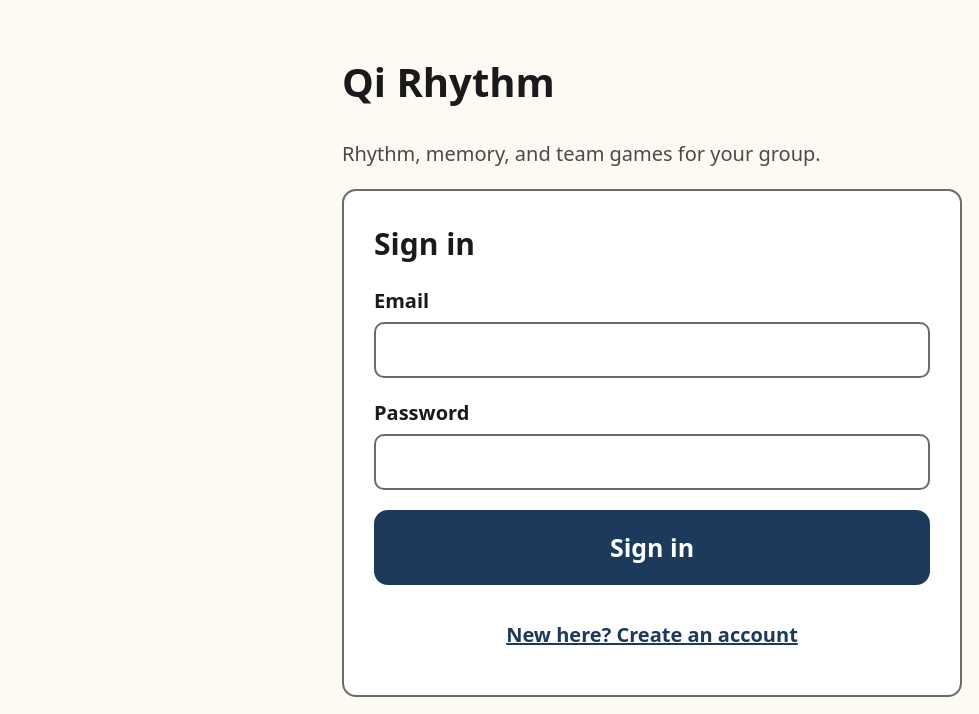
signs in and goes to the dashboard
Step 1. Type "c@example.com" into the field labelled "Email" → (652,350), box left=374, top=322, right=930, bottom=378
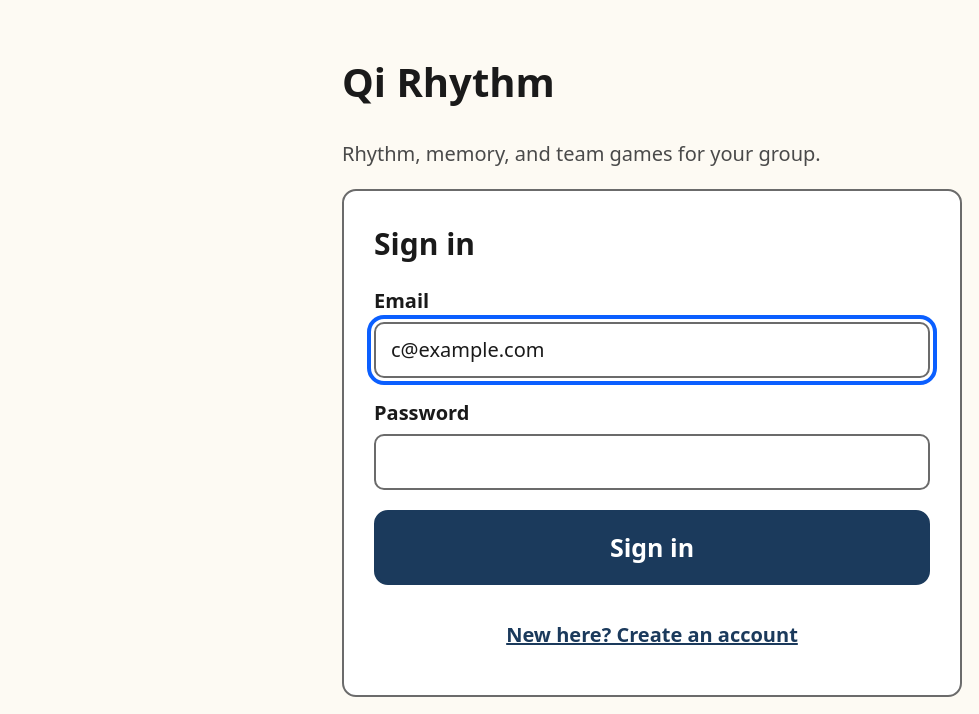
Step 2. Type "drumcircle1" into the password field labelled "Password" → (652,462), box left=374, top=434, right=930, bottom=490
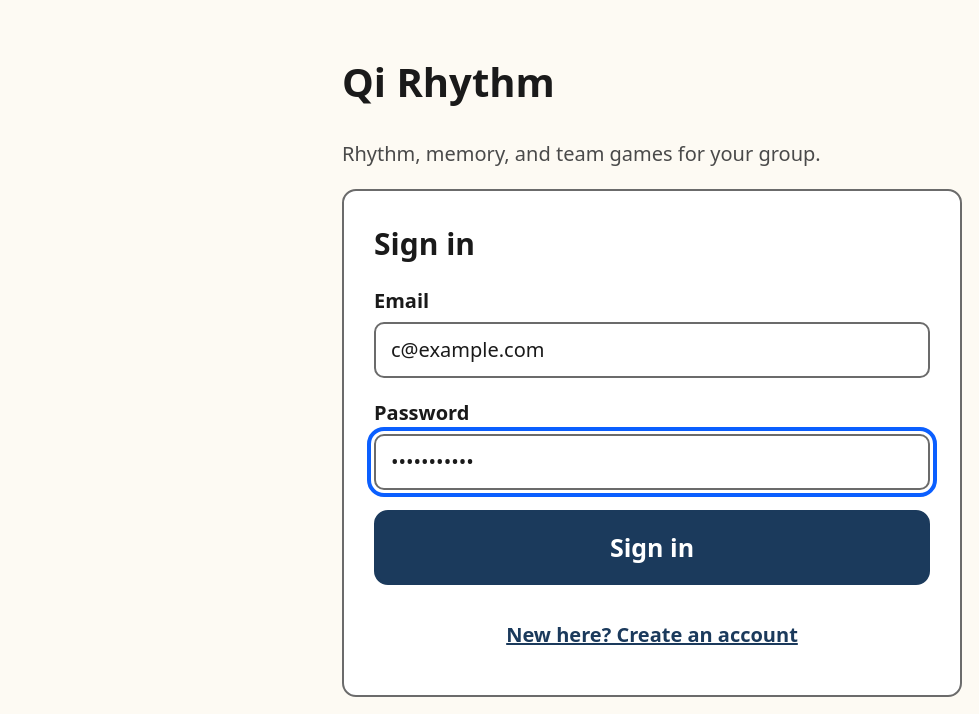
Step 3. Click the button "Sign in" → (652,547), box left=374, top=510, right=930, bottom=585
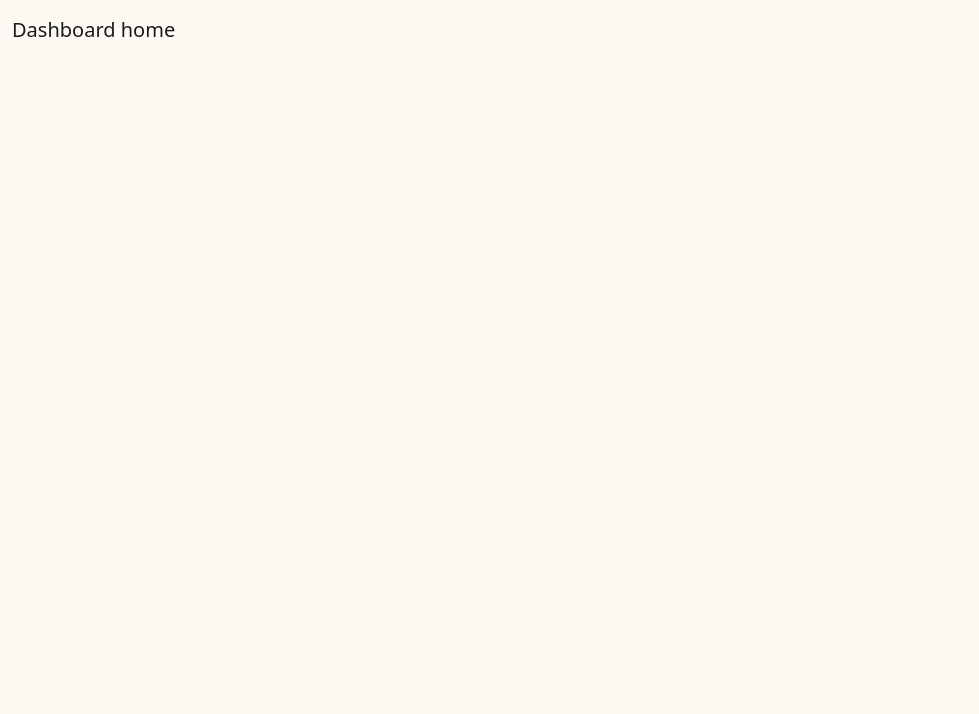
expect the text "Dashboard home" is shown: met, box left=12, top=16, right=175, bottom=43
